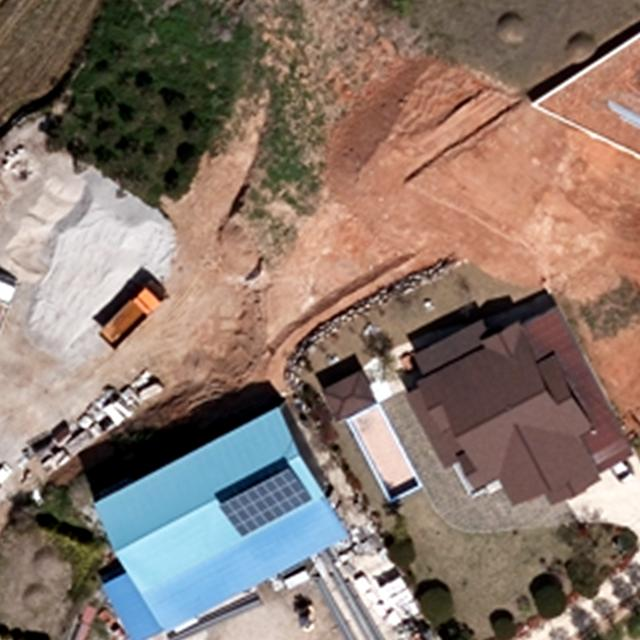panel: (215, 462, 313, 538)
